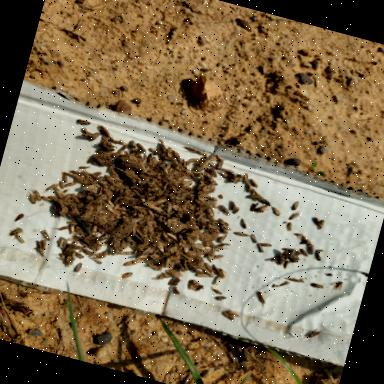pbw: (312, 248, 330, 264), (136, 217, 166, 226), (42, 181, 58, 197), (8, 226, 26, 240), (143, 201, 164, 213), (96, 142, 116, 153), (52, 222, 70, 234), (307, 327, 322, 341), (256, 196, 274, 207), (26, 192, 40, 206), (116, 142, 130, 156), (228, 172, 242, 186), (95, 248, 109, 262), (110, 238, 122, 254), (218, 204, 232, 217), (30, 189, 44, 202), (88, 130, 101, 144), (66, 218, 84, 228), (328, 280, 343, 292), (106, 174, 124, 184), (187, 264, 203, 275), (231, 230, 250, 239), (95, 148, 112, 158), (119, 270, 133, 282), (98, 124, 112, 136), (123, 258, 137, 270), (40, 195, 56, 205), (98, 130, 114, 140), (80, 248, 96, 258), (202, 262, 215, 274), (164, 146, 176, 159), (256, 291, 268, 304), (255, 202, 268, 214), (54, 187, 68, 198), (90, 255, 104, 266), (64, 180, 78, 191), (65, 172, 82, 181), (247, 192, 262, 202), (165, 232, 180, 242), (221, 312, 236, 322), (76, 118, 92, 127), (288, 210, 300, 222), (108, 138, 126, 146), (36, 246, 48, 258), (158, 141, 170, 153), (156, 196, 168, 208), (130, 204, 148, 212), (310, 216, 322, 228), (14, 212, 26, 224), (220, 167, 236, 176), (96, 184, 107, 197), (80, 170, 94, 180), (92, 158, 106, 168), (120, 248, 134, 258), (209, 242, 223, 252), (202, 268, 216, 278), (192, 199, 206, 209), (136, 252, 150, 262), (135, 144, 149, 154), (13, 234, 27, 244), (216, 170, 230, 180), (92, 244, 103, 256), (196, 211, 207, 223), (196, 168, 207, 180), (177, 263, 189, 274), (152, 147, 164, 158), (132, 215, 145, 225), (60, 171, 70, 184), (170, 150, 183, 160), (316, 219, 326, 232), (131, 256, 144, 266), (66, 212, 79, 222), (69, 170, 85, 178), (214, 294, 228, 303), (218, 268, 229, 279), (94, 225, 105, 236), (249, 179, 260, 190), (208, 168, 219, 179), (104, 198, 116, 208), (187, 156, 199, 166), (290, 200, 300, 212), (270, 207, 282, 217), (212, 252, 224, 262), (74, 262, 84, 274), (240, 173, 250, 185), (110, 150, 122, 160), (130, 146, 142, 156), (168, 278, 180, 288), (181, 260, 191, 272), (80, 238, 93, 247), (310, 282, 324, 290), (184, 146, 198, 154), (72, 252, 86, 260), (130, 174, 144, 182), (162, 156, 178, 163), (196, 150, 210, 158), (195, 272, 209, 280), (114, 205, 128, 213), (192, 244, 206, 252), (217, 241, 231, 249), (206, 195, 220, 203), (249, 202, 260, 212), (102, 231, 112, 242), (142, 246, 152, 257), (68, 225, 78, 236), (146, 207, 156, 218), (214, 154, 225, 164), (129, 140, 139, 151), (108, 246, 118, 257), (307, 244, 316, 256), (165, 203, 174, 215), (108, 169, 120, 178), (244, 182, 253, 194), (104, 205, 116, 214), (72, 194, 87, 201), (97, 240, 110, 248), (217, 226, 230, 234), (96, 192, 106, 202), (232, 205, 242, 215), (54, 190, 64, 200), (190, 174, 200, 184), (156, 243, 166, 253), (249, 234, 259, 244), (38, 240, 48, 250), (298, 248, 308, 258), (211, 264, 221, 274), (187, 196, 197, 206), (172, 286, 182, 296), (204, 168, 214, 178), (216, 160, 225, 171), (204, 172, 215, 181), (87, 154, 96, 165), (240, 218, 249, 229), (228, 201, 237, 212), (259, 242, 273, 249), (211, 288, 223, 296), (106, 184, 118, 192), (56, 236, 64, 248), (164, 257, 172, 269), (126, 238, 138, 246), (206, 161, 218, 169), (221, 224, 233, 232), (218, 234, 227, 244), (57, 180, 66, 190), (258, 243, 266, 254), (162, 181, 170, 192), (160, 152, 168, 163), (146, 170, 158, 177), (78, 164, 90, 171), (130, 219, 142, 226), (216, 220, 230, 226), (90, 224, 98, 234), (286, 222, 294, 232), (146, 154, 154, 164), (70, 240, 80, 248), (112, 160, 120, 170), (76, 244, 86, 252), (116, 167, 127, 174), (162, 168, 171, 176), (180, 159, 188, 168), (89, 174, 101, 180), (182, 199, 190, 208), (136, 190, 148, 196), (282, 261, 290, 270), (269, 256, 278, 264), (48, 194, 58, 201), (214, 276, 221, 286), (188, 169, 198, 176), (206, 254, 213, 264), (178, 252, 189, 258), (165, 162, 173, 170), (94, 170, 102, 178), (167, 190, 175, 198), (146, 196, 154, 204), (208, 248, 216, 256), (169, 186, 178, 193), (151, 157, 158, 166), (148, 158, 154, 168), (132, 228, 138, 238), (250, 188, 257, 196), (108, 164, 114, 173), (144, 165, 150, 174)
